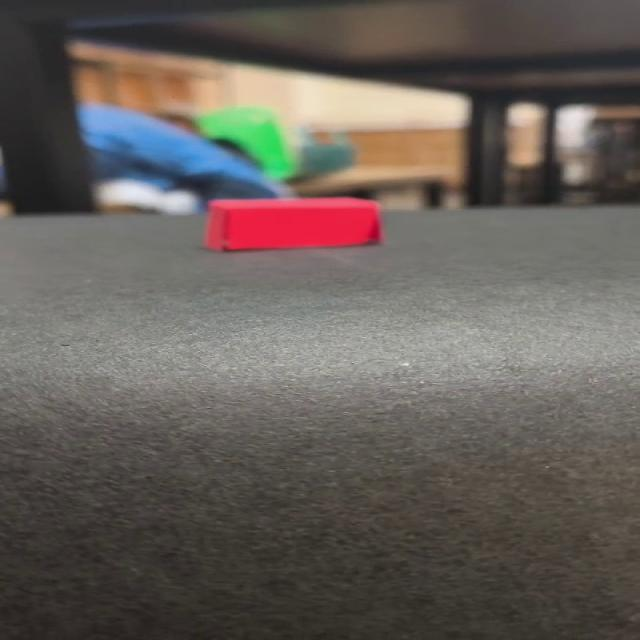red block: (202, 195, 382, 251)
